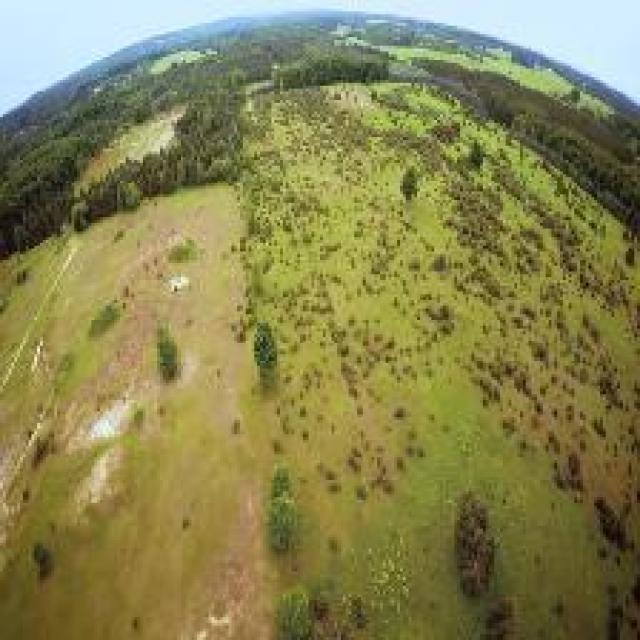other: (66, 351, 199, 506)
